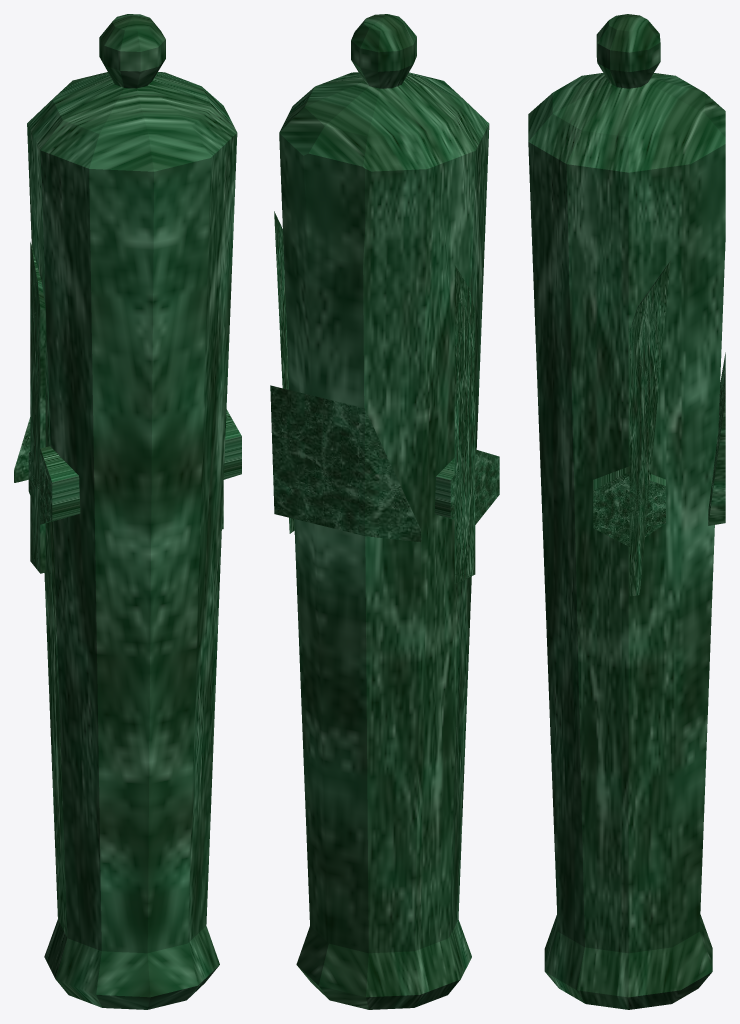
Rendered from canonjade.obj.
3 views of the same model, side by side, from view 1: azimuth 30°, elevation 25°; view 2: azimuth 150°, elevation 25°; view 3: azimuth 270°, elevation 25° (orthographic).
Visible parts, largest first — view 1: Object.1, Object.2, Object.5, Object.4; view 2: Object.1, Object.4, Object.2, Object.5, Object.3; view 3: Object.1, Object.3, Object.5, Object.4.
Part boxes in pixels (x1=…): Object.1: x1=27, y1=14, x2=237, y2=1009; Object.2: x1=30, y1=242, x2=45, y2=573; Object.5: x1=28, y1=409, x2=241, y2=524; Object.4: x1=14, y1=417, x2=30, y2=482; Object.1: x1=279, y1=14, x2=489, y2=1009; Object.4: x1=270, y1=385, x2=421, y2=542; Object.2: x1=454, y1=265, x2=475, y2=583; Object.5: x1=434, y1=449, x2=499, y2=524; Object.3: x1=274, y1=211, x2=294, y2=533; Object.1: x1=528, y1=14, x2=725, y2=1009; Object.3: x1=629, y1=261, x2=670, y2=596; Object.5: x1=593, y1=466, x2=665, y2=546; Object.4: x1=708, y1=352, x2=725, y2=525.
Size of the model in its own units: 772 by 3748 by 697.
Materials: 1 (1 with a texture image).
